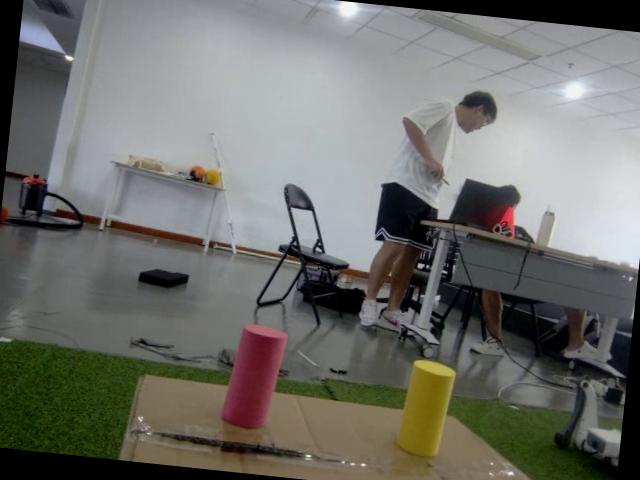red_cylinder: (220, 322, 289, 431)
yellow_cylinder: (394, 359, 456, 458)
